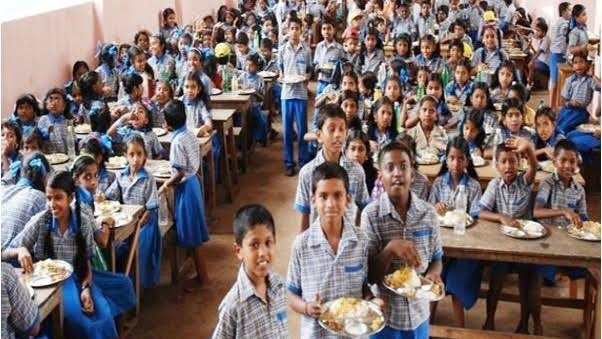student: (230, 201, 285, 283), (309, 162, 354, 227), (375, 140, 413, 201), (313, 106, 358, 152), (493, 140, 527, 187), (48, 176, 82, 220), (154, 99, 195, 135), (37, 84, 76, 121), (119, 99, 155, 138), (550, 140, 583, 181), (368, 93, 401, 131), (499, 97, 530, 136), (119, 136, 153, 171), (72, 153, 99, 197), (444, 138, 472, 180), (11, 94, 44, 127), (421, 69, 452, 103), (74, 69, 109, 99), (347, 131, 375, 166), (417, 92, 442, 131), (415, 33, 443, 64), (503, 73, 528, 107), (533, 110, 557, 144), (451, 57, 477, 87), (462, 104, 482, 139), (140, 34, 166, 60), (493, 57, 517, 85), (127, 44, 148, 76), (180, 74, 205, 100), (336, 71, 363, 95), (180, 42, 199, 76), (481, 24, 506, 49), (121, 72, 145, 98), (569, 49, 590, 78), (285, 19, 309, 43), (444, 39, 469, 62), (391, 27, 409, 58), (313, 19, 335, 42), (362, 24, 381, 50), (572, 6, 589, 32), (156, 80, 172, 100)
